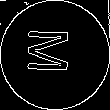M_E: (30, 32, 80, 78)
